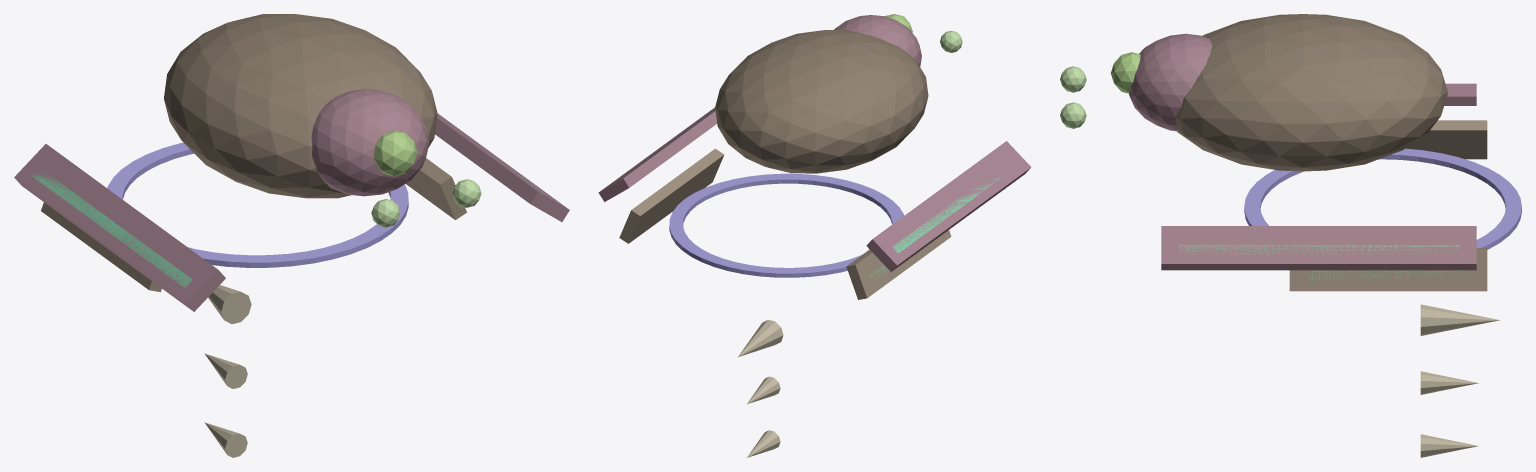
Rendered from zglengo_skyblight.glb.
The picture shows the model from 3 angles, left to right: view 1: azimuth 30°, elevation 25°; view 2: azimuth 150°, elevation 25°; view 3: azimuth 270°, elevation 25°; orthographic projection. The views are drawn at different scales.
Parts seen in each view (by area): view 1: body, wing_-1_38, thorax, hover_ring, wing_1_38, vein_-1_38, wing_1_68, plague_eye, wing_-1_68, tail_spine_0, tail_spine_1, tail_spine_2 (+2 smaller); view 2: body, wing_-1_38, hover_ring, wing_1_68, wing_1_38, wing_-1_68, thorax, vein_-1_38, tail_spine_0, tail_spine_2, tail_spine_1; view 3: body, wing_1_38, thorax, wing_1_68, hover_ring, wing_-1_68, tail_spine_0, vein_1_38, plague_eye, tail_spine_1, tail_spine_2, wing_-1_38 (+2 smaller).
Boxes of the visible parts, x1,y1,x2,y2 form: body: (164,14,437,198); wing_-1_38: (14,144,225,311); thorax: (311,89,429,196); hover_ring: (107,142,408,267); wing_1_38: (435,113,569,221); vein_-1_38: (32,171,192,287); wing_1_68: (406,158,466,219); plague_eye: (373,131,417,176); wing_-1_68: (41,202,161,292); tail_spine_0: (208,285,251,324); tail_spine_1: (204,353,247,388); tail_spine_2: (204,422,247,457); body: (715,30,928,173); wing_-1_38: (866,141,1031,271); hover_ring: (669,173,904,277); wing_1_68: (619,148,724,243); wing_1_38: (598,107,717,201); wing_-1_68: (846,230,951,299); thorax: (834,15,921,66); vein_-1_38: (892,177,1001,253); tail_spine_0: (738,319,783,356); tail_spine_2: (747,430,780,457); tail_spine_1: (747,376,780,403); body: (1176,14,1448,171); wing_1_38: (1161,226,1476,270); thorax: (1129,33,1212,131); wing_1_68: (1289,248,1487,291); hover_ring: (1244,148,1521,249); wing_-1_68: (1405,120,1487,159); tail_spine_0: (1420,304,1499,335); vein_1_38: (1179,245,1459,254); plague_eye: (1110,52,1140,93); tail_spine_1: (1420,371,1478,394); tail_spine_2: (1420,434,1478,457); wing_-1_38: (1444,83,1476,105).
Bounding box in the file's own units: 1.52 × 1.76 × 1.73.
